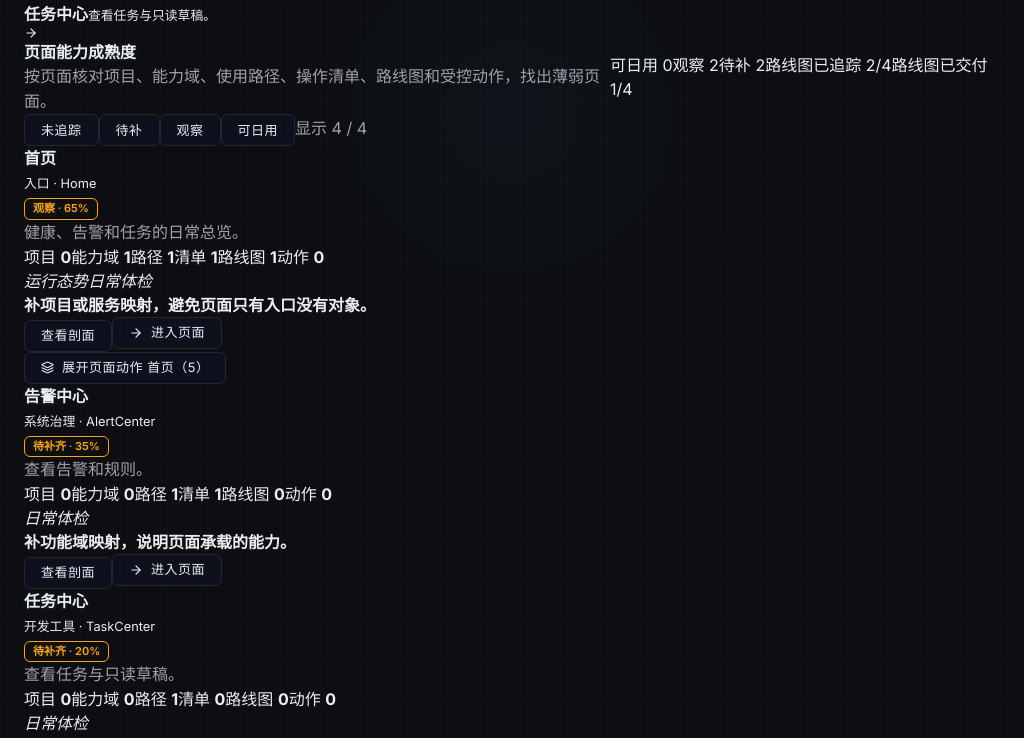
Test case: SystemMapView interaction › expands the complete page action catalog instead of hiding actions behind a counter
(page scrolled)
Click the button "展开页面动作 首页（5）" at (125, 368), box [24, 352, 226, 384]
(page scrolled)
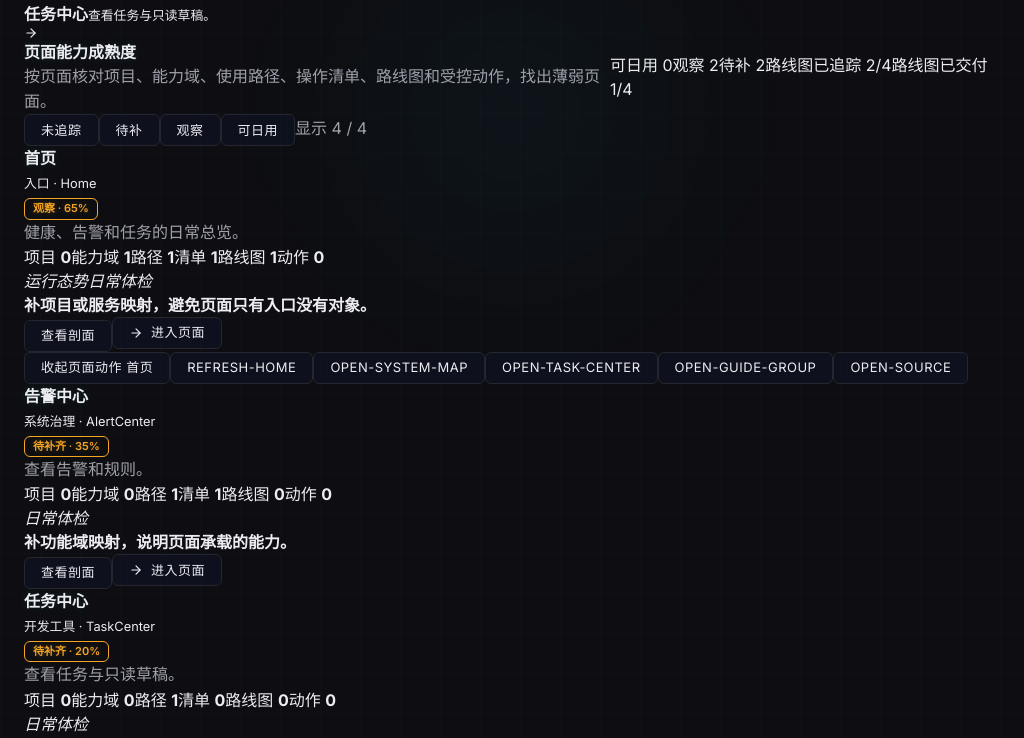
Expected: the button with aria-label "承接页面动作 open-source" is shown, [833, 352, 968, 384]
Expected: the button "收起页面动作 首页" is shown, [24, 352, 170, 384]
